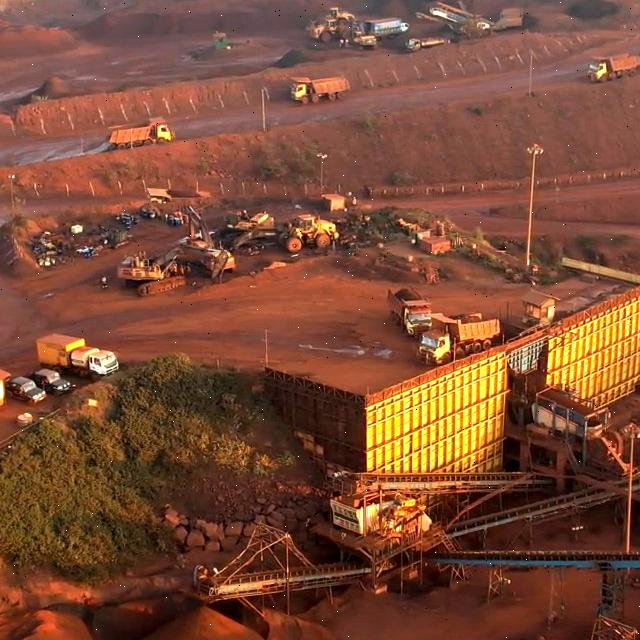Dumper truck: (422, 313, 477, 356), (389, 286, 434, 333), (289, 75, 348, 104), (115, 122, 170, 146), (590, 55, 640, 81)
Excavator: (117, 247, 191, 296)
